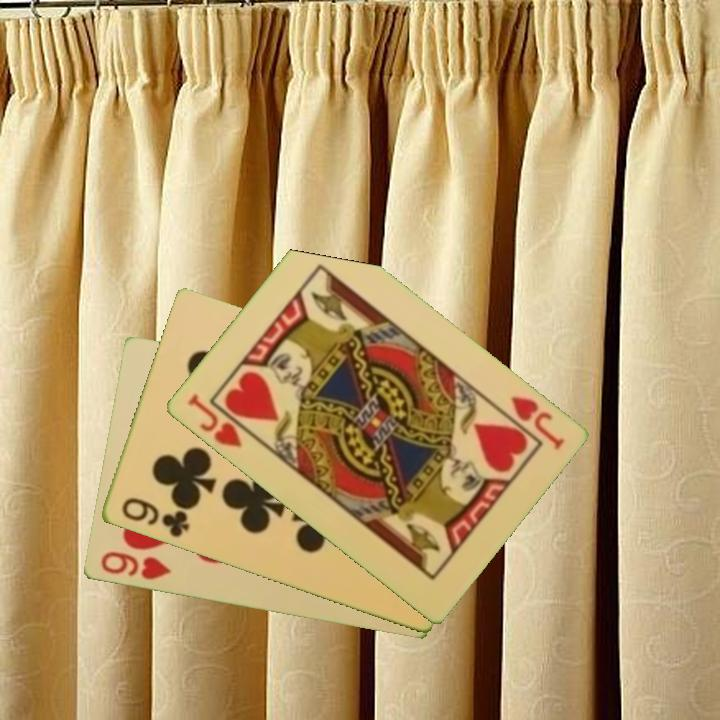9c: (117, 494, 192, 541)
9h: (97, 548, 173, 583)
Jh: (183, 390, 258, 451), (506, 392, 567, 453)
